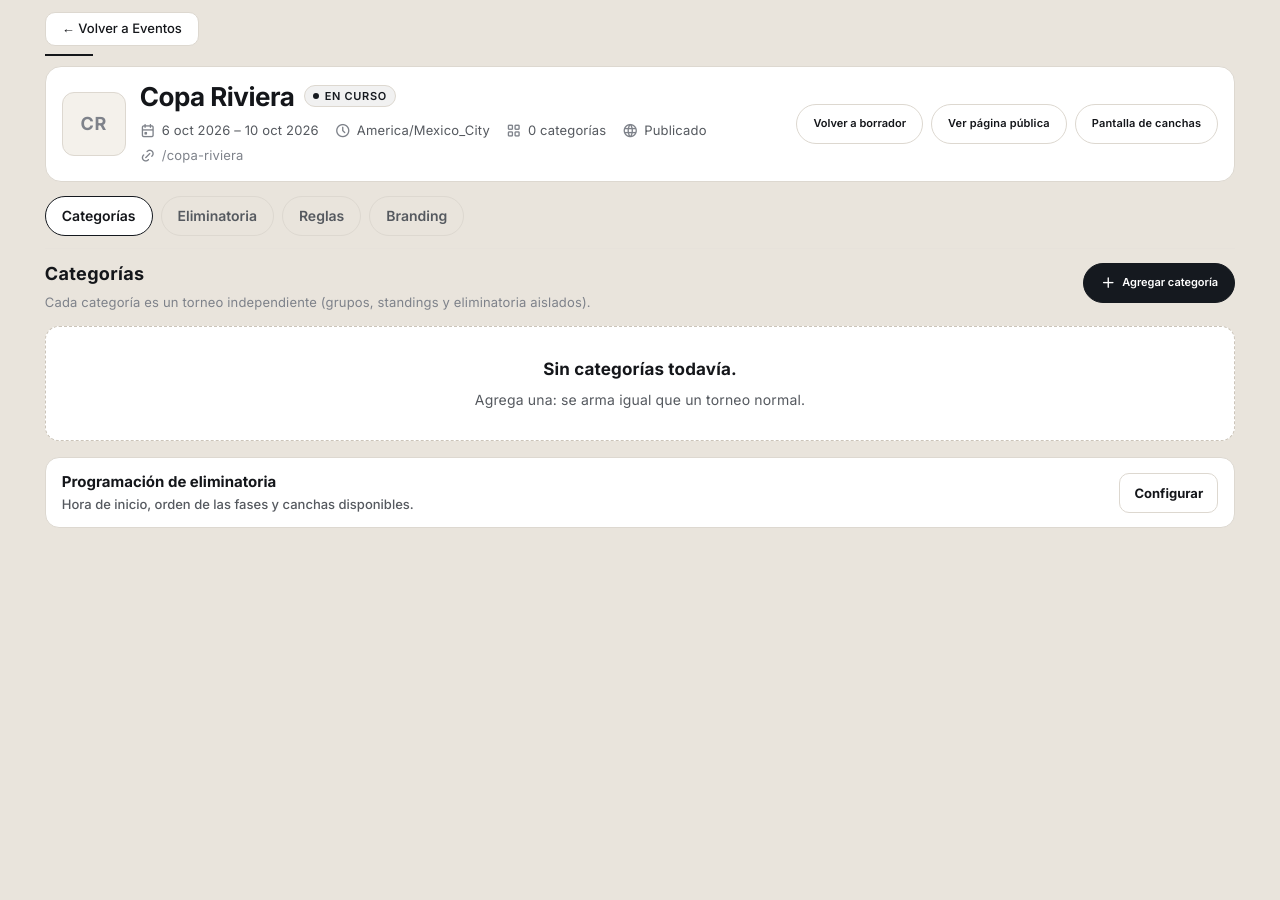
EventoDetalle (Fase 2) › cambiar de pestaña conserva los cambios sin guardar
The width and height of the screenshot is (1280, 900).
Expected: the heading "Copa Riviera" is shown, [140,81,294,112]
Click the tab "Reglas". click: {"x": 322, "y": 216}
box: [282,196,361,236]
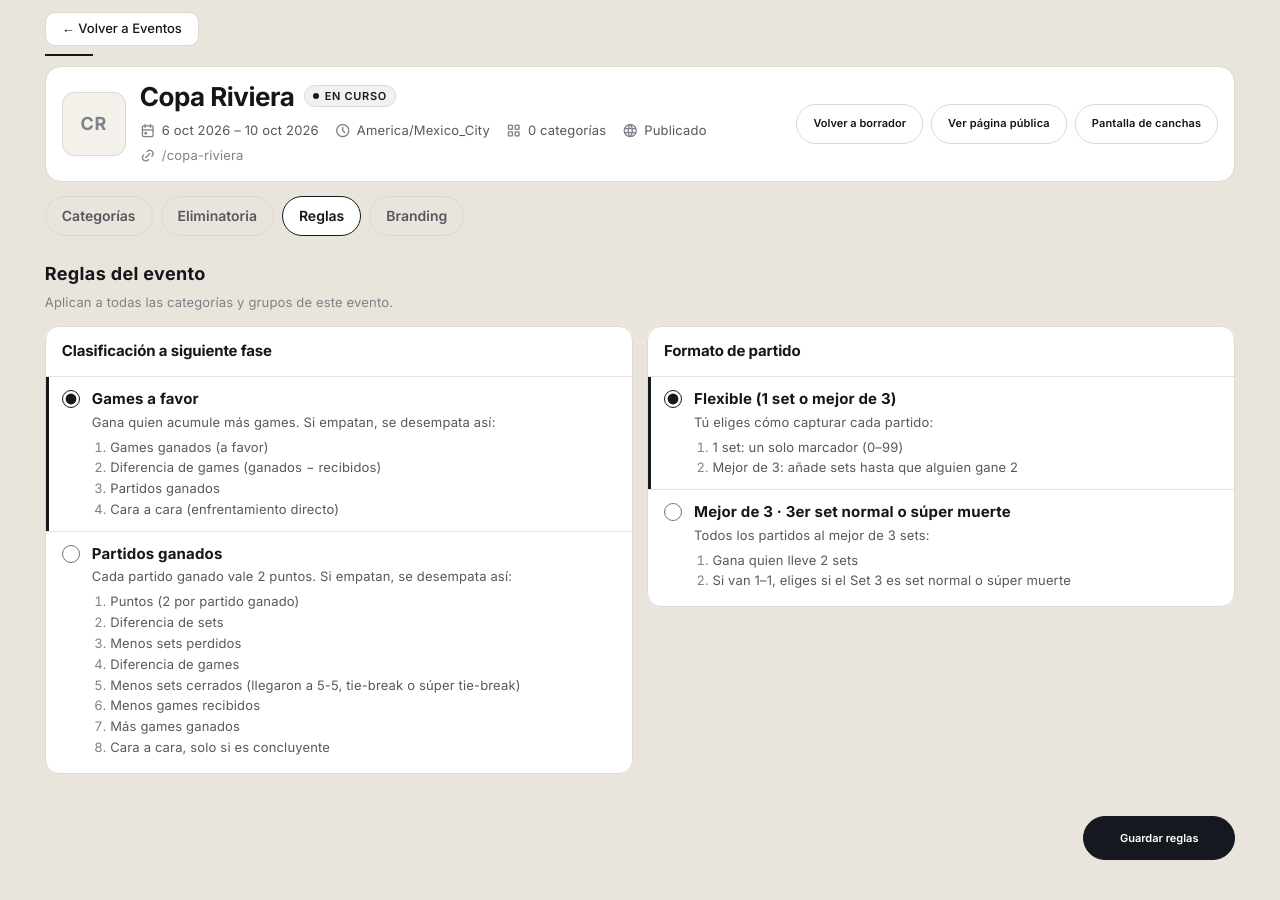
Click the 4th radio button. click: {"x": 71, "y": 554}
box: [62,545,80,563]
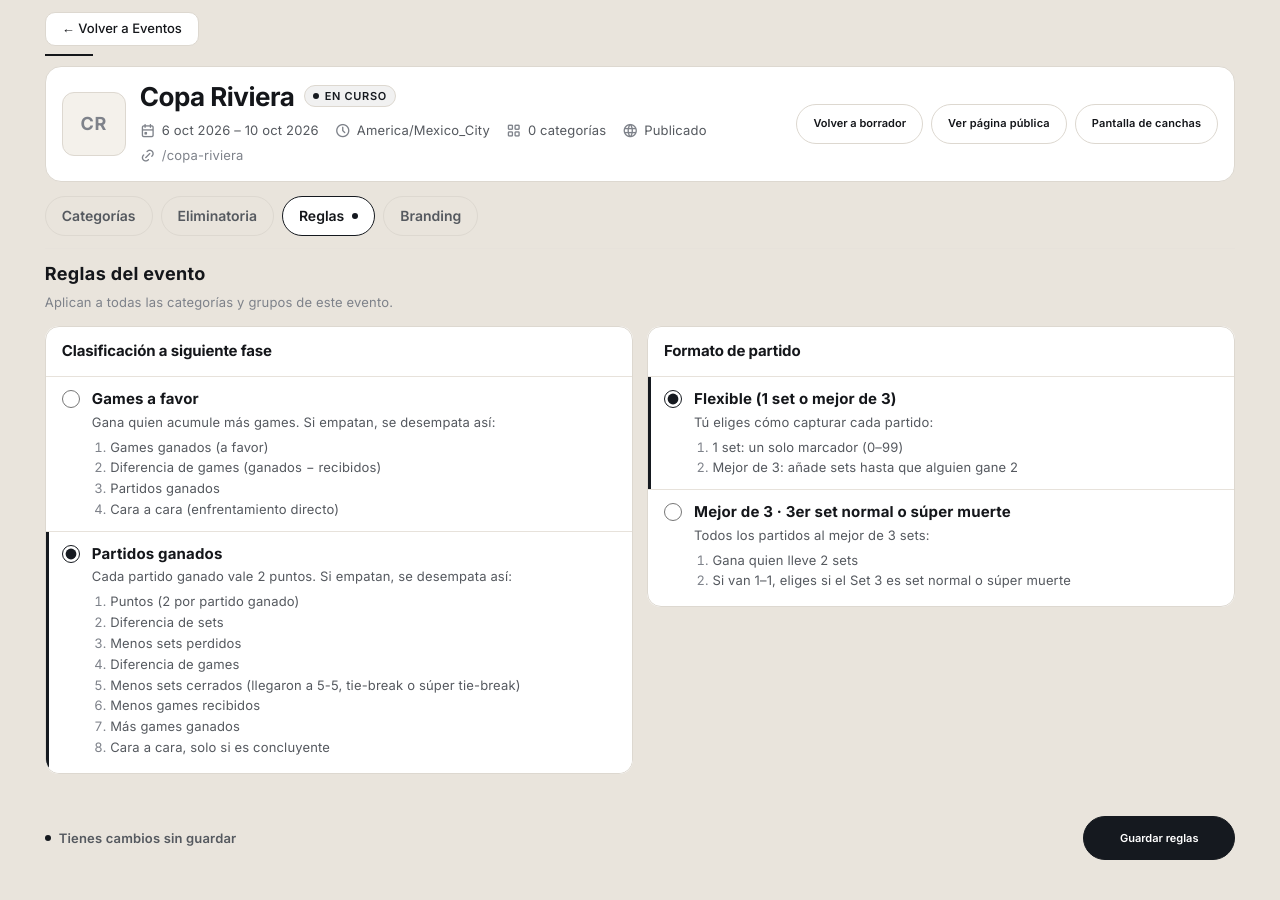
Now the 4th radio button is checked, box [62,545,80,563]
Click the tab "Branding". click: {"x": 431, "y": 216}
box: [383,196,478,236]
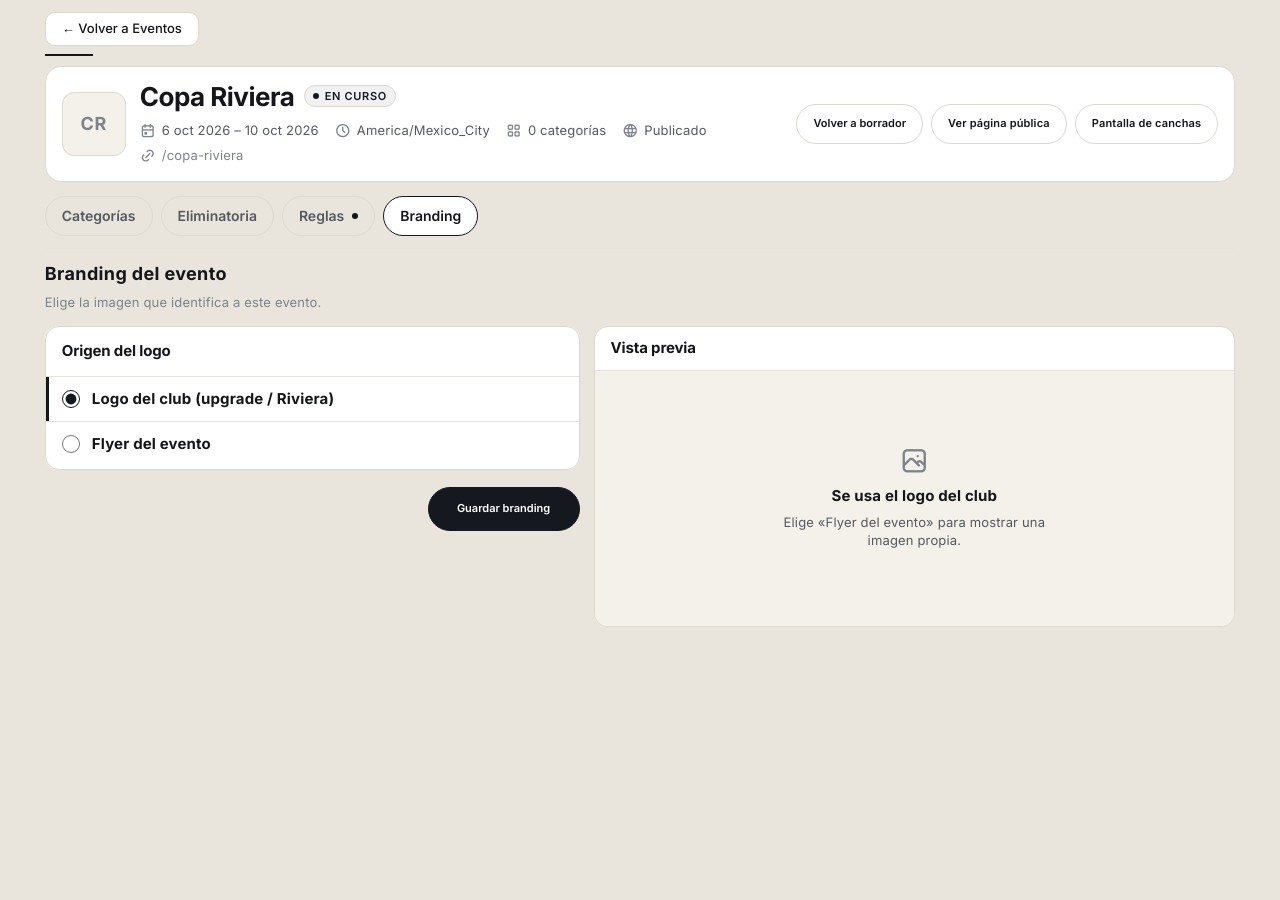
Click the tab "Reglas". click: {"x": 329, "y": 216}
box: [282,196,375,236]
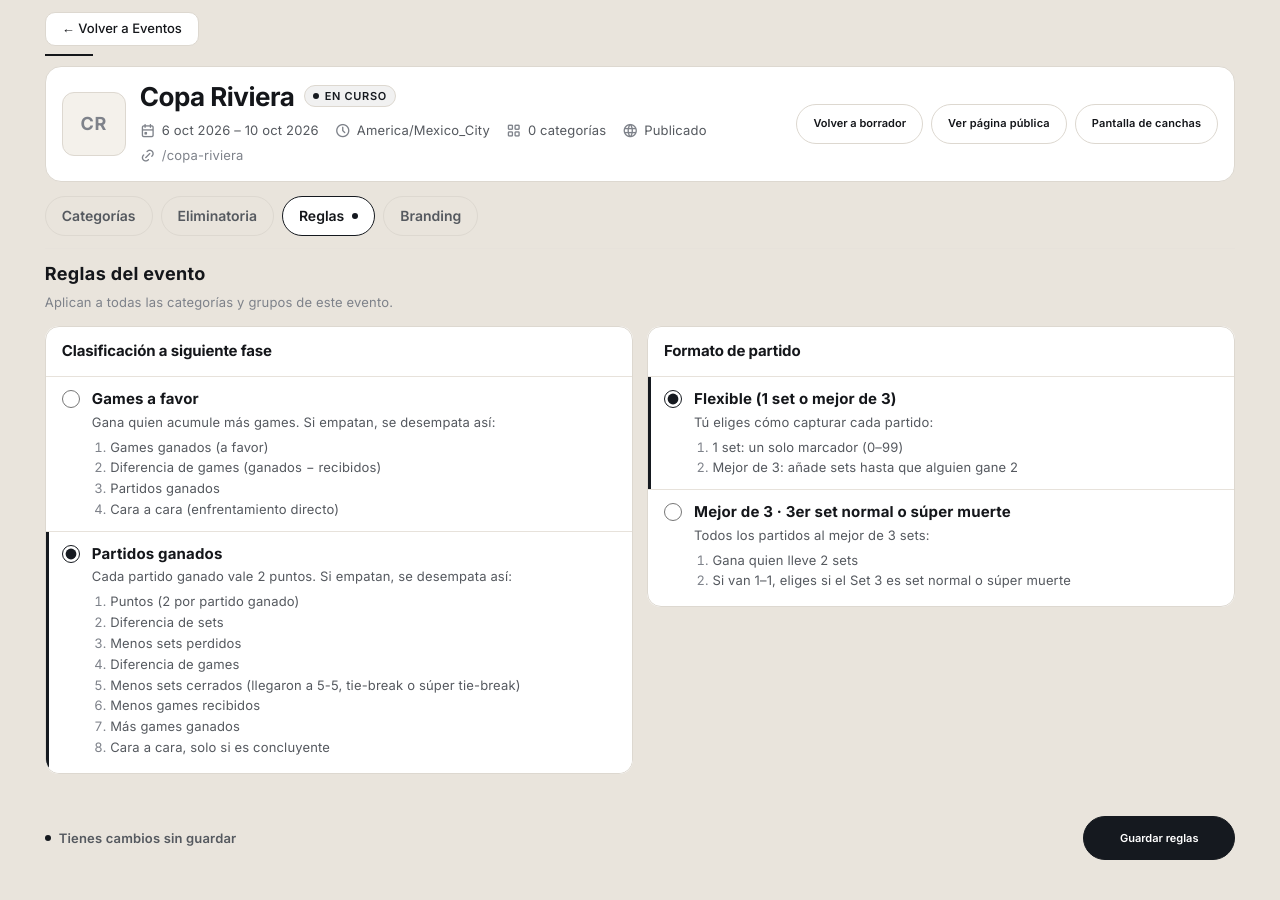
Now the 4th radio button is checked, box [62,545,80,563]
Now the text "Tienes cambios sin guardar" is shown, box [45,827,236,849]
